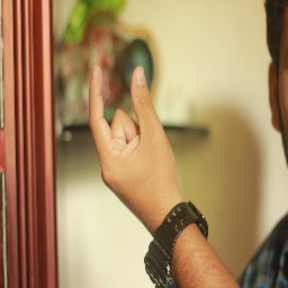U: (83, 59, 177, 201)
